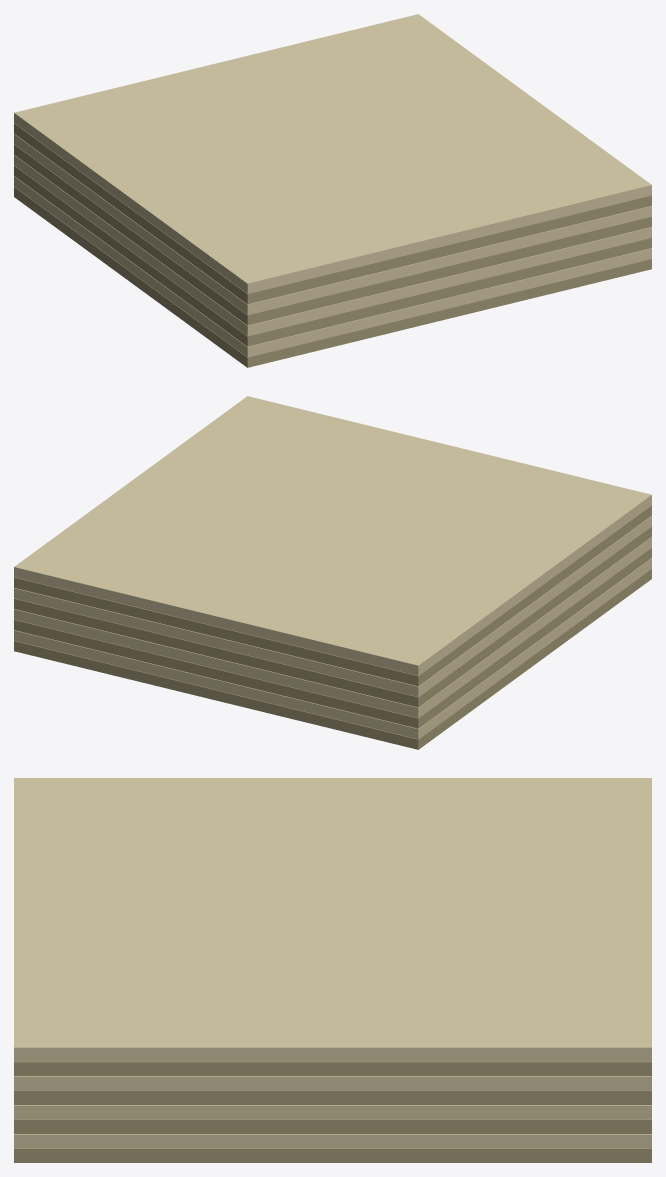
The model's file is paper.glb.
3 renders of one model, top to bottom at view 1: azimuth 30°, elevation 25°; view 2: azimuth 150°, elevation 25°; view 3: azimuth 270°, elevation 25°, orthographic. The views are drawn at different scales.
Parts seen in each view (by area): view 1: PaperLayer_7, PaperLayer_0, PaperLayer_6, PaperLayer_2, PaperLayer_5, PaperLayer_4, PaperLayer_1, PaperLayer_3; view 2: PaperLayer_7, PaperLayer_0, PaperLayer_6, PaperLayer_2, PaperLayer_5, PaperLayer_4, PaperLayer_1, PaperLayer_3; view 3: PaperLayer_7, PaperLayer_0, PaperLayer_1, PaperLayer_2, PaperLayer_3, PaperLayer_4, PaperLayer_5, PaperLayer_6.
Part boxes in pixels (box(x1,y1,x2,y2)): PaperLayer_7: box(14, 14, 651, 293); PaperLayer_0: box(14, 186, 651, 367); PaperLayer_6: box(14, 123, 651, 304); PaperLayer_2: box(14, 165, 651, 346); PaperLayer_5: box(14, 134, 651, 314); PaperLayer_4: box(14, 144, 651, 325); PaperLayer_1: box(14, 176, 651, 357); PaperLayer_3: box(14, 155, 651, 335); PaperLayer_7: box(14, 396, 651, 675); PaperLayer_0: box(14, 568, 651, 749); PaperLayer_6: box(14, 505, 651, 686); PaperLayer_2: box(14, 547, 651, 728); PaperLayer_5: box(14, 516, 651, 696); PaperLayer_4: box(14, 526, 651, 707); PaperLayer_1: box(14, 558, 651, 739); PaperLayer_3: box(14, 537, 651, 717); PaperLayer_7: box(14, 778, 651, 1061); PaperLayer_0: box(14, 1148, 651, 1162); PaperLayer_1: box(14, 1134, 651, 1148); PaperLayer_2: box(14, 1119, 651, 1133); PaperLayer_3: box(14, 1105, 651, 1119); PaperLayer_4: box(14, 1090, 651, 1104); PaperLayer_5: box(14, 1076, 651, 1090); PaperLayer_6: box(14, 1061, 651, 1075).
Size of the model in its own units: 0.1 by 0.0199 by 0.1.
